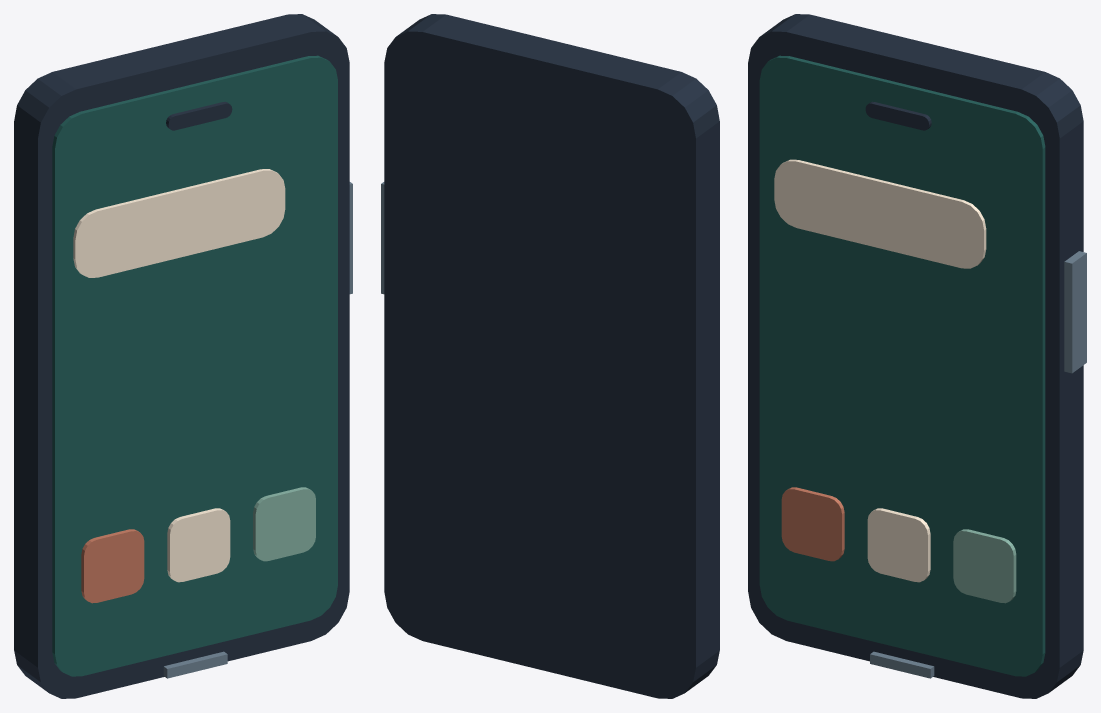
The model's file is phone.glb.
The picture shows the model from 3 angles, left to right: view 1: azimuth 30°, elevation 25°; view 2: azimuth 150°, elevation 25°; view 3: azimuth 330°, elevation 25°; orthographic projection.
Parts seen in each view (by area): view 1: screen, case, widget, app 1, app 0, app 2, earpiece, port; view 2: case; view 3: screen, case, widget, app 0, app 1, app 2, side switch, earpiece, port.
Part boxes in pixels (x1=…): screen: x1=52, y1=55, x2=337, y2=676; case: x1=14, y1=14, x2=349, y2=698; widget: x1=73, y1=169, x2=285, y2=277; app 1: x1=167, y1=508, x2=230, y2=582; app 0: x1=81, y1=529, x2=144, y2=603; app 2: x1=253, y1=487, x2=315, y2=561; earpiece: x1=166, y1=101, x2=232, y2=130; port: x1=163, y1=651, x2=227, y2=678; case: x1=384, y1=14, x2=719, y2=698; screen: x1=759, y1=55, x2=1045, y2=676; case: x1=748, y1=14, x2=1083, y2=698; widget: x1=774, y1=159, x2=986, y2=268; app 0: x1=781, y1=487, x2=844, y2=561; app 1: x1=867, y1=508, x2=930, y2=582; app 2: x1=953, y1=529, x2=1016, y2=603; side switch: x1=1064, y1=251, x2=1086, y2=373; earpiece: x1=865, y1=101, x2=931, y2=130; port: x1=870, y1=651, x2=934, y2=678.
Bounding box in the file's own units: 1 × 1.83 × 0.166.
